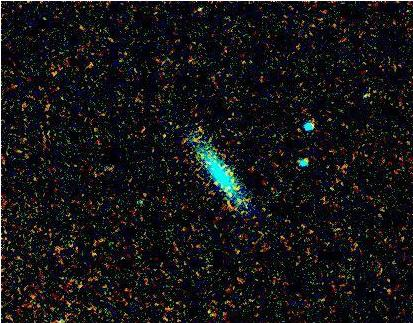star: (201, 168, 231, 198)
